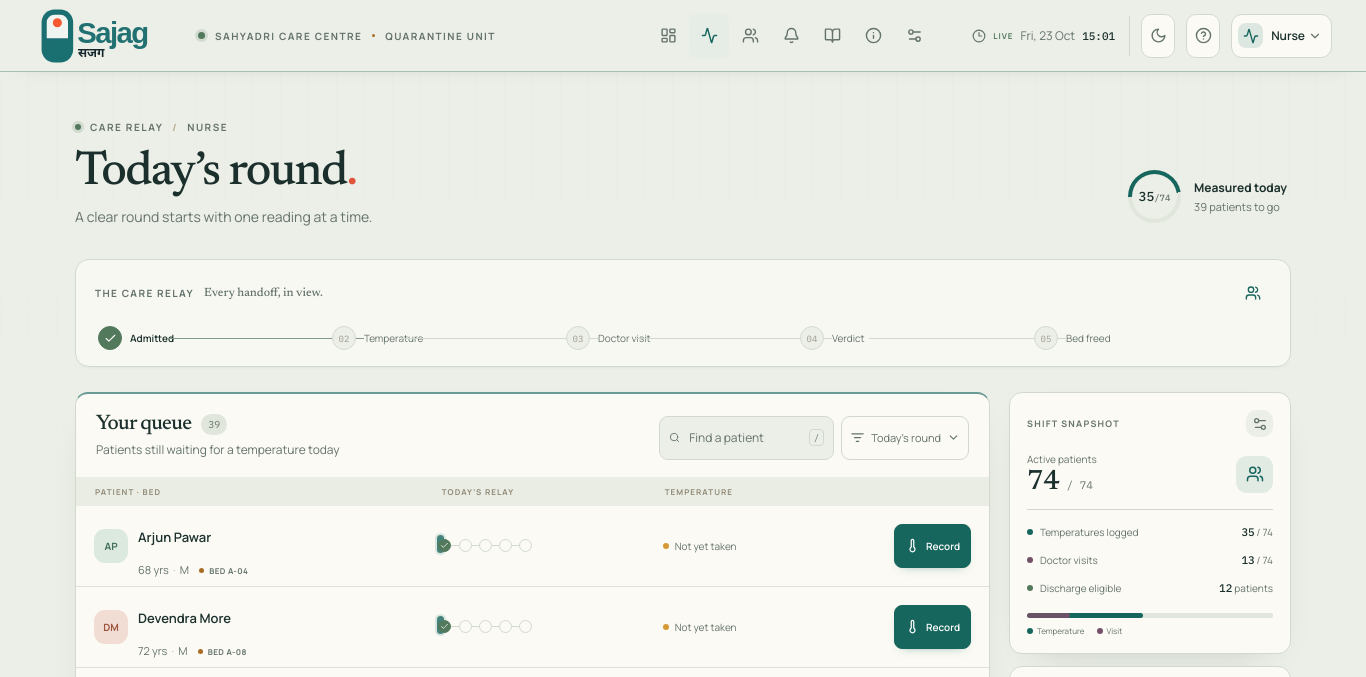
Test: Sajag interface workflows › switches roles from the role menu
What coordinates should you click on to do the following:
click the button "Nurse"
I would click on:
 (1282, 36)
Its box is x1=1231 y1=14 x2=1332 y2=58.
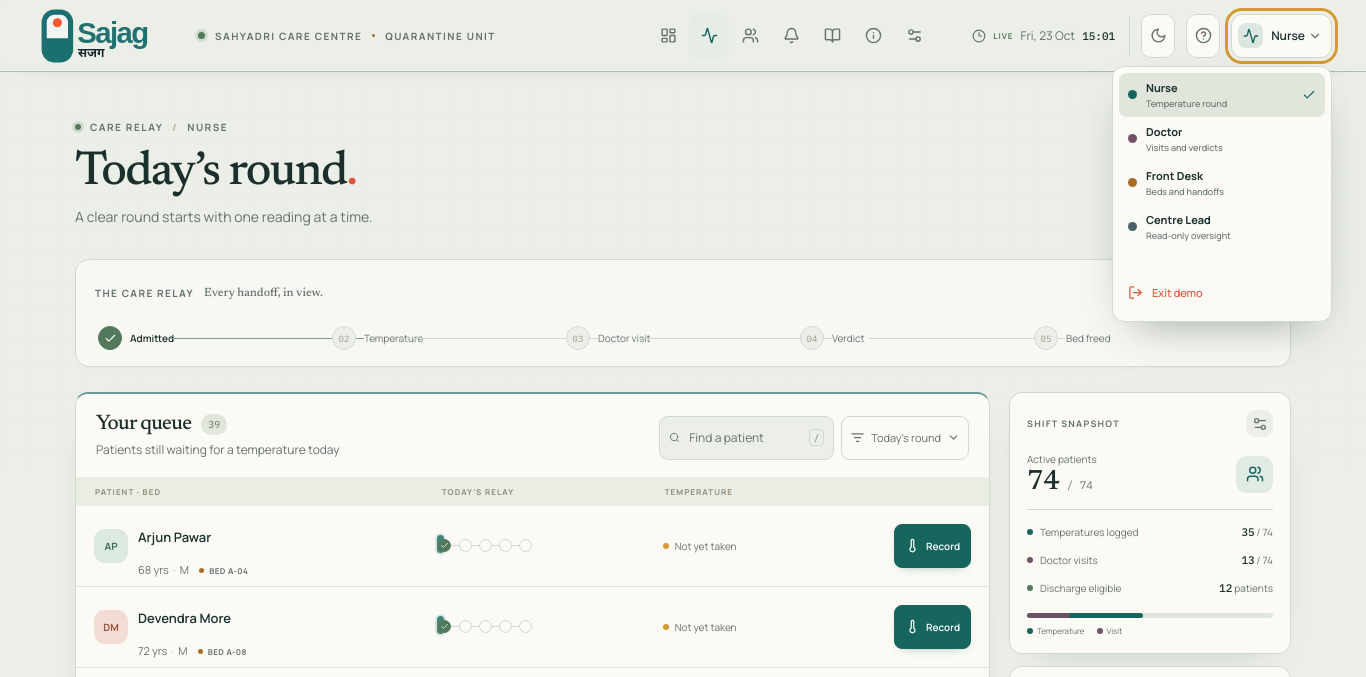
What coordinates should you click on to do the following:
click the menu item "Doctor Visits and verdicts"
I would click on:
 (1222, 138)
Its box is x1=1119 y1=116 x2=1325 y2=160.
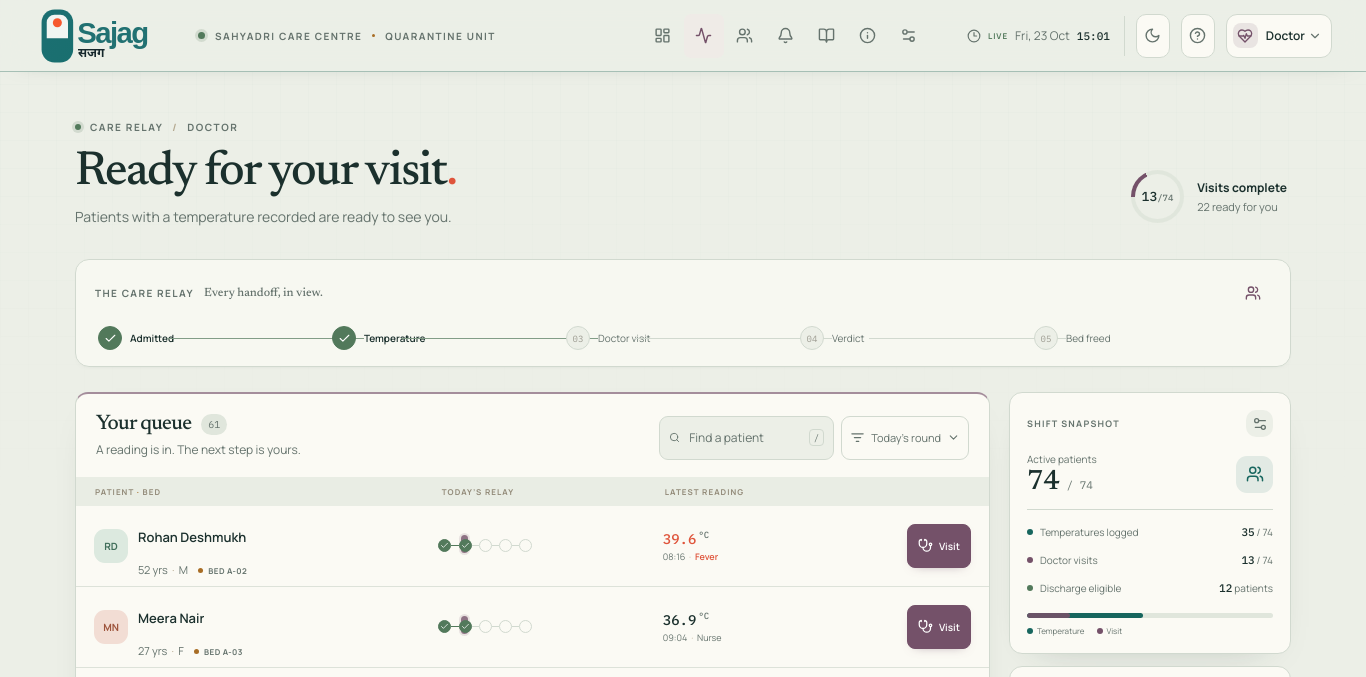
Result: the heading "Ready for your visit." is shown at x1=75 y1=146 x2=456 y2=200
